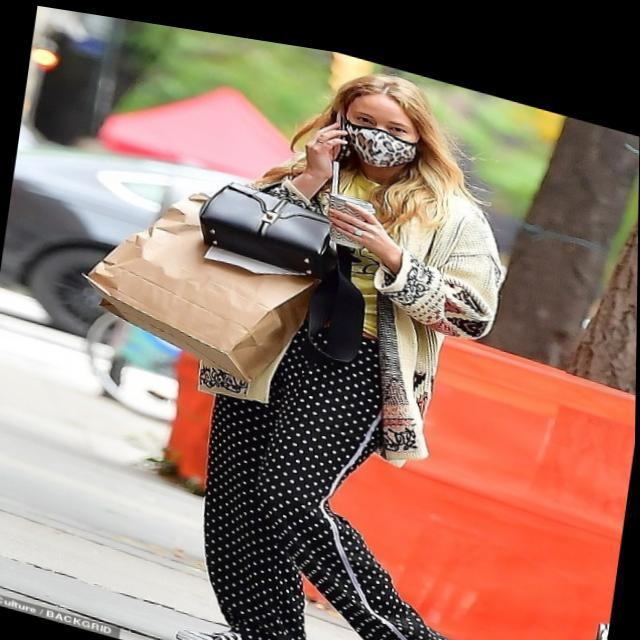Nonhelmet: (314, 56, 434, 185)
